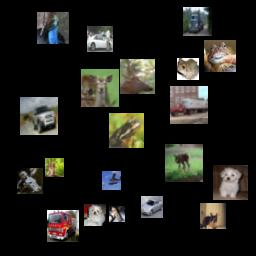airplane: (102, 171, 121, 190)
automobile: (20, 97, 58, 135), (87, 26, 113, 52), (141, 196, 163, 218)
bird: (37, 12, 69, 44)
cat: (200, 203, 226, 229), (45, 158, 64, 177), (109, 206, 125, 222)
deer: (81, 69, 119, 107), (165, 144, 203, 182), (120, 59, 155, 94), (17, 168, 43, 194)
dog: (213, 165, 248, 200), (84, 204, 106, 226)
frog: (109, 113, 144, 148), (204, 40, 236, 72), (177, 58, 199, 80)
truck: (170, 86, 208, 124), (47, 210, 79, 242), (183, 7, 212, 36)
